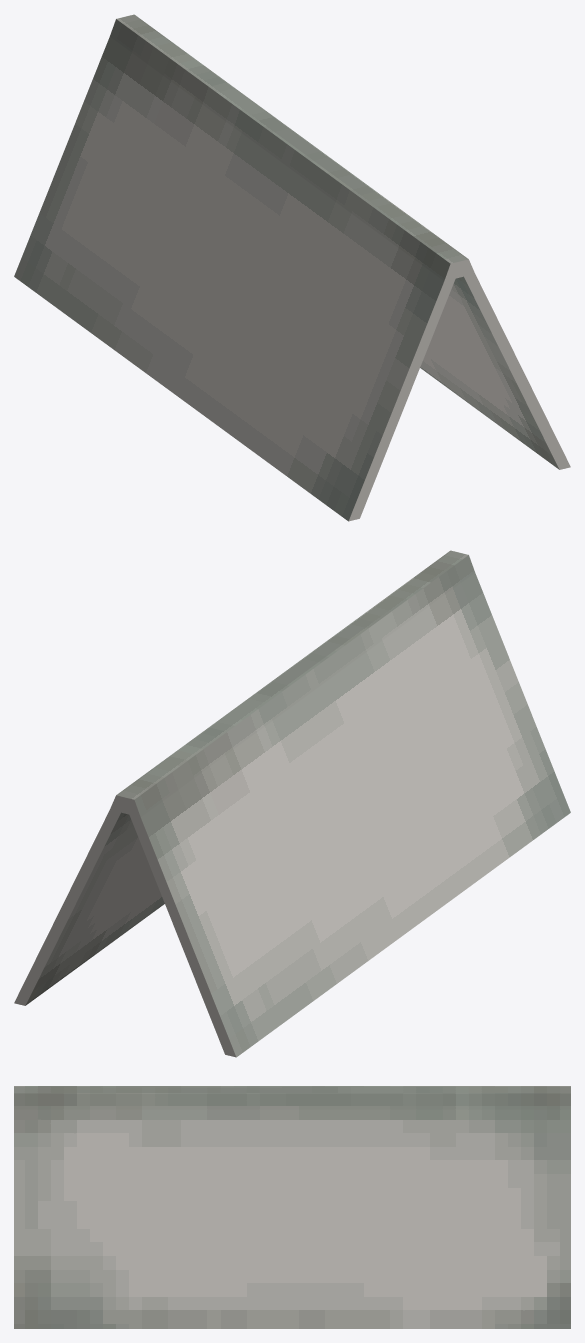
File: name tag.fbx
3 views of the same model, one above another, from view 1: azimuth 30°, elevation 25°; view 2: azimuth 150°, elevation 25°; view 3: azimuth 270°, elevation 25° (orthographic). The views are drawn at different scales.
Visible parts, largest first — view 1: Cube.006; view 2: Cube.006; view 3: Cube.006.
Part boxes in pixels (x1,y1,x2,y2): Cube.006: (14,14,570,521); Cube.006: (14,550,570,1057); Cube.006: (14,1086,570,1328).
Size of the model in its own units: 200 by 200 by 521.
1 material, 1 textured.
